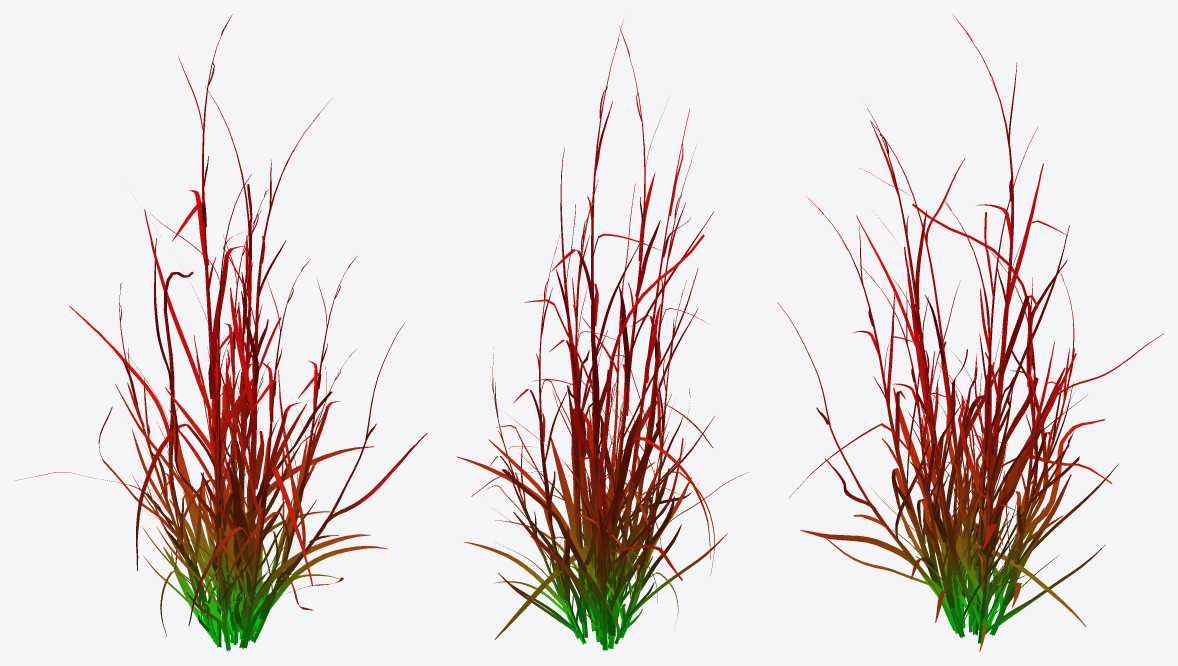
File: Swamp Grass_LOD1_Var1_tefocd1r.fbx
3 views of the same model, side by side, from view 1: azimuth 30°, elevation 25°; view 2: azimuth 150°, elevation 25°; view 3: azimuth 270°, elevation 25° (orthographic). The views are drawn at different scales.
Parts seen in each view (by area): view 1: merge1; view 2: merge1; view 3: merge1.
Boxes of the visible parts, x1,y1,x2,y2 form: merge1: (15, 14, 427, 651); merge1: (456, 20, 748, 650); merge1: (777, 14, 1163, 651).
Size of the model in its own units: 48.71 by 101 by 57.47.
